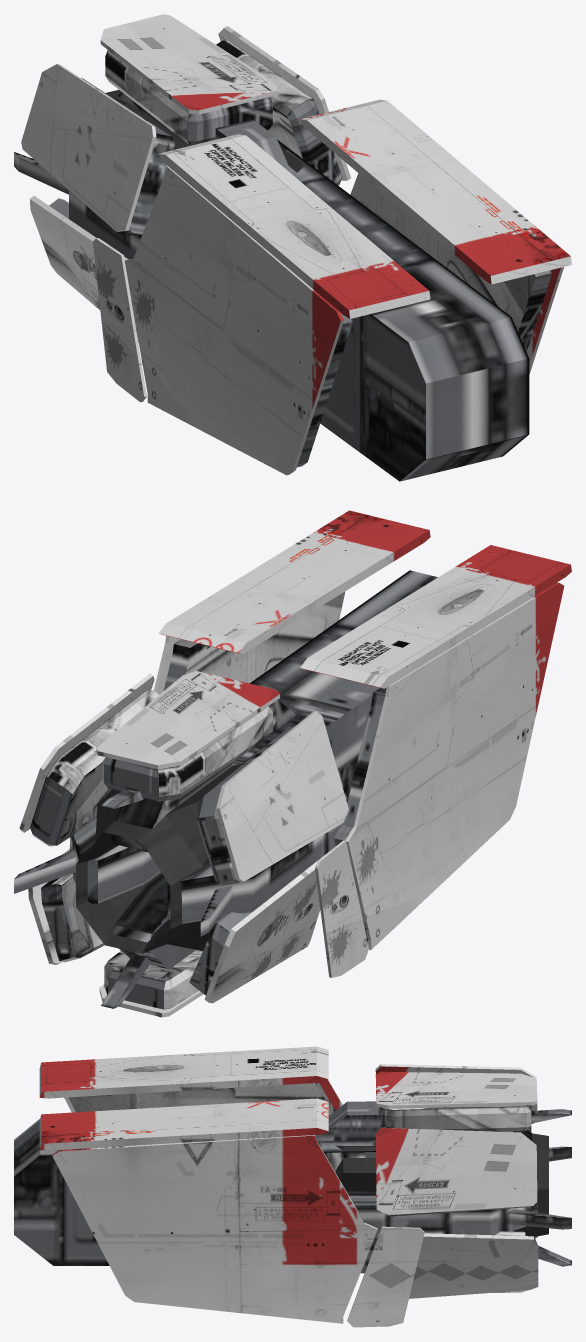
Rendered from engine02.FBX.
3 renders of one model, top to bottom at view 1: azimuth 30°, elevation 25°; view 2: azimuth 150°, elevation 25°; view 3: azimuth 270°, elevation 25°, orthographic. The views are drawn at different scales.
Visible parts, largest first — view 1: engine02; view 2: engine02; view 3: engine02.
Boxes of the visible parts, left/top/right/bottom form: engine02: left=14, top=14, right=571, bottom=481; engine02: left=14, top=510, right=571, bottom=1017; engine02: left=14, top=1046, right=571, bottom=1327.
Bounding box in the file's own units: 197 × 217 × 551.
